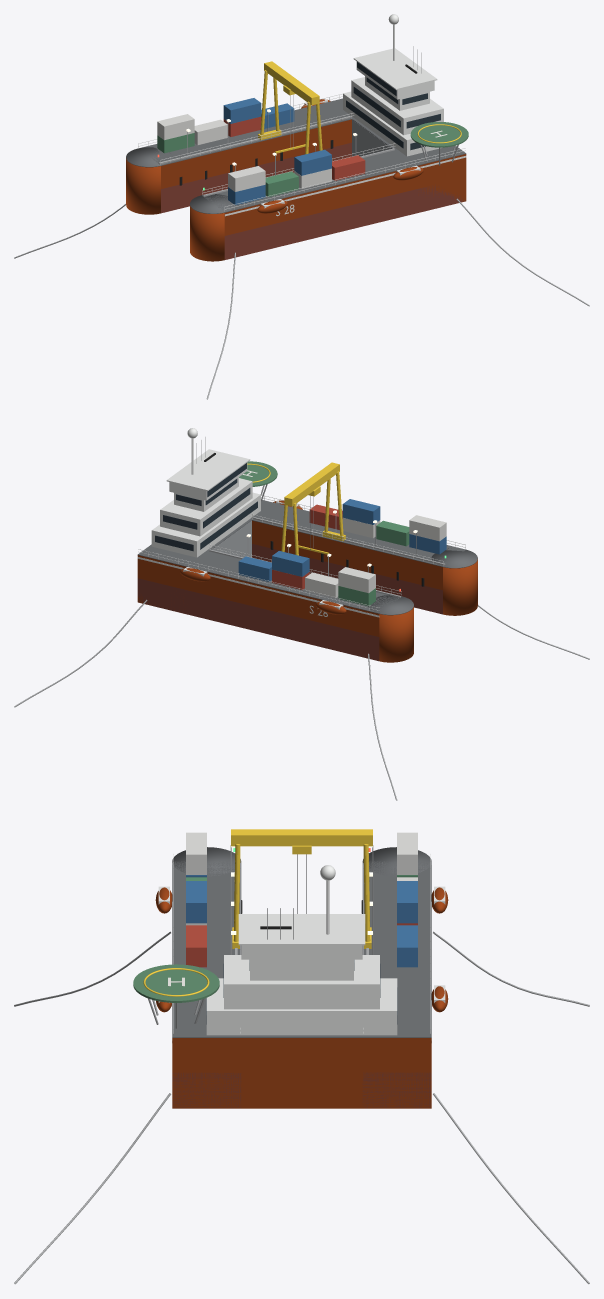
3 views of the same model, one above another, from view 1: azimuth 30°, elevation 25°; view 2: azimuth 150°, elevation 25°; view 3: azimuth 270°, elevation 25° (orthographic). The views are drawn at different scales.
Visible parts, largest first — view 1: Carene, Coque, Coque.001, PontCoque.001, Carene.001, PontCoque, ToitPasserelle, NezCoque.001, NezCoque, Etage.001, BlocNord, Helisurface (+17 smaller); view 2: Carene.001, Coque.001, Coque, PontCoque.001, PontCoque, Carene, ToitPasserelle, Etage.001, Etage, NezCoque, NezCoque.001, Poutre (+16 smaller); view 3: BlocNord, PontCoque.001, Etage, Etage.001, PontCoque, ToitPasserelle, Poutre, Helisurface, Etage.002, Coque.001, Carene.001, Carene (+13 smaller).
Part boxes in pixels (bbox=[...]): Carene: bbox=[224, 184, 465, 259]; Coque: bbox=[224, 154, 464, 235]; Coque.001: bbox=[161, 119, 351, 188]; PontCoque.001: bbox=[142, 98, 353, 165]; Carene.001: bbox=[161, 142, 351, 213]; PontCoque: bbox=[204, 150, 465, 212]; ToitPasserelle: bbox=[353, 48, 437, 89]; NezCoque.001: bbox=[126, 158, 160, 214]; NezCoque: bbox=[190, 206, 224, 261]; Etage.001: bbox=[351, 77, 443, 135]; BlocNord: bbox=[416, 154, 466, 203]; Helisurface: bbox=[410, 122, 468, 147]; Carene.001: bbox=[137, 578, 379, 661]; Coque.001: bbox=[137, 555, 379, 636]; Coque: bbox=[252, 520, 442, 590]; PontCoque.001: bbox=[138, 549, 401, 613]; PontCoque: bbox=[250, 500, 465, 566]; Carene: bbox=[252, 544, 442, 614]; ToitPasserelle: bbox=[166, 449, 250, 491]; Etage.001: bbox=[160, 478, 252, 536]; Etage: bbox=[151, 492, 260, 557]; NezCoque: bbox=[443, 559, 477, 615]; NezCoque.001: bbox=[379, 607, 413, 662]; Poutre: bbox=[284, 462, 339, 506]; BlocNord: bbox=[172, 1038, 431, 1108]; PontCoque.001: bbox=[362, 861, 431, 1037]; Etage: bbox=[206, 978, 397, 1035]; Etage.001: bbox=[224, 955, 379, 1009]; PontCoque: bbox=[172, 861, 241, 1037]; ToitPasserelle: bbox=[238, 914, 365, 945]; Poutre: bbox=[231, 829, 372, 846]; Helisurface: bbox=[133, 964, 219, 1002]; Etage.002: bbox=[250, 959, 353, 980]; Coque.001: bbox=[362, 1038, 431, 1072]; Carene.001: bbox=[362, 1072, 431, 1108]; Carene: bbox=[172, 1072, 241, 1108].
Size of the model in its own units: 76.18 by 45 by 66.56.
